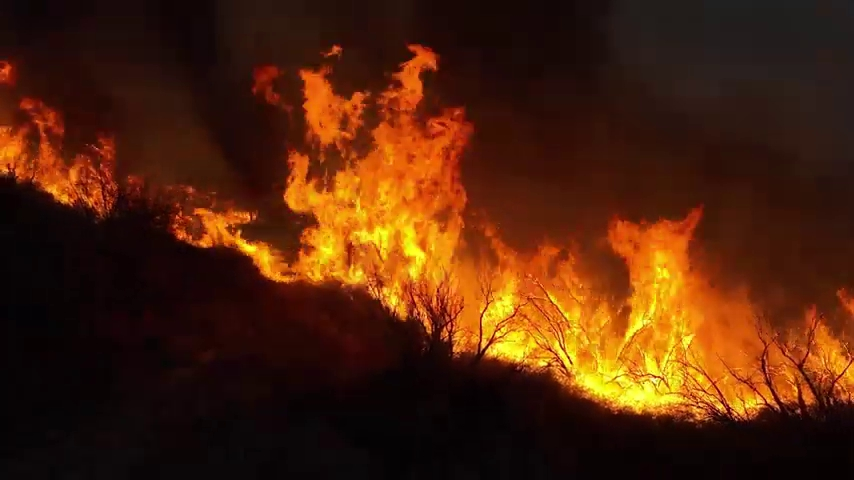forest_fire: (173, 45, 853, 413), (0, 99, 115, 213)
